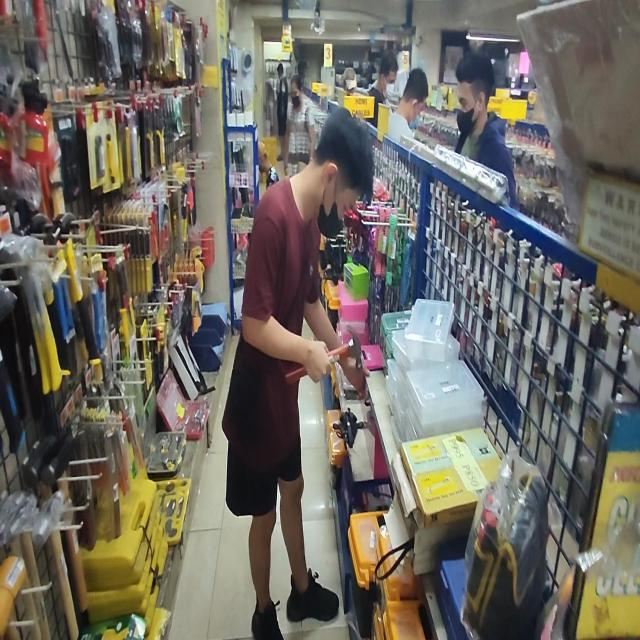hammer: (287, 322, 362, 381)
